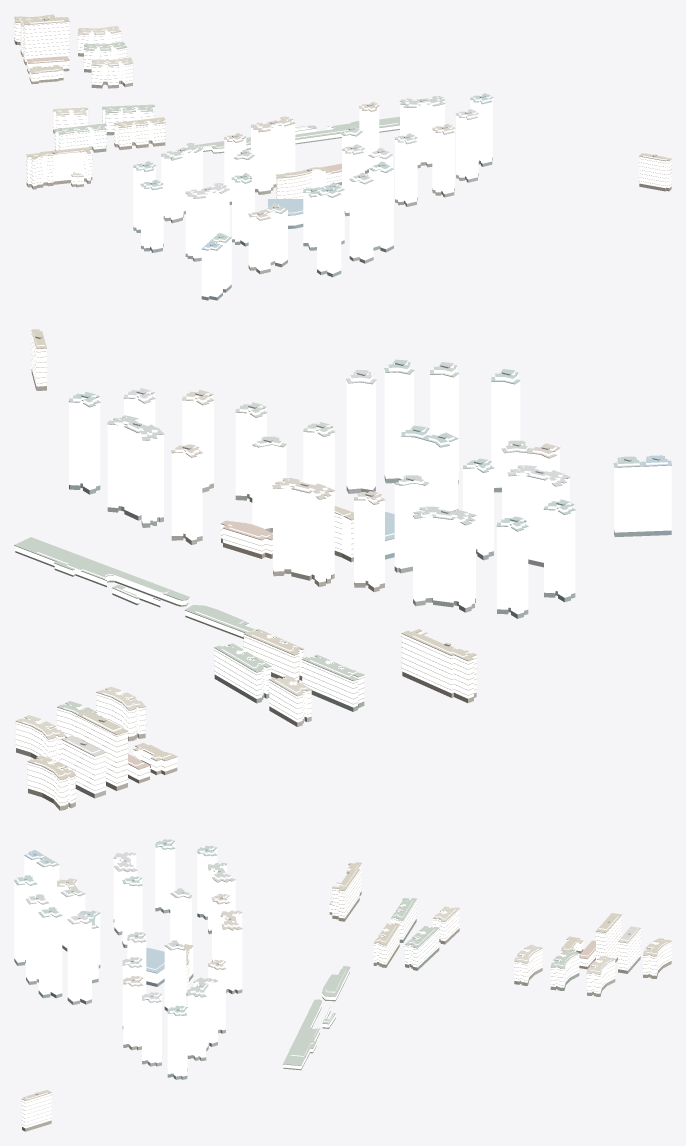
Rendered from buildings--4_2-fine.glb.
The picture shows the model from 3 angles, top to bottom: view 1: azimuth 30°, elevation 25°; view 2: azimuth 150°, elevation 25°; view 3: azimuth 270°, elevation 25°; orthographic projection. The views are drawn at different scales.
Parts seen in each view (by area): view 1: block_-4_2_office, block_-4_2_residential, block_-4_2_roof, block_-4_2_darkglass, block_-4_2_concrete, block_-4_2_steel; view 2: block_-4_2_office, block_-4_2_residential, block_-4_2_roof, block_-4_2_darkglass, block_-4_2_concrete, block_-4_2_steel; view 3: block_-4_2_office, block_-4_2_roof, block_-4_2_residential, block_-4_2_darkglass, block_-4_2_concrete, block_-4_2_steel.
Part boxes in pixels (x1,y1,x2,y2): block_-4_2_office: (133, 94, 492, 297); block_-4_2_residential: (14, 16, 671, 198); block_-4_2_roof: (14, 14, 671, 294); block_-4_2_darkglass: (14, 38, 671, 300); block_-4_2_concrete: (14, 16, 671, 198); block_-4_2_steel: (133, 95, 492, 250); block_-4_2_office: (69, 361, 671, 614); block_-4_2_residential: (15, 332, 476, 806); block_-4_2_roof: (14, 329, 671, 803); block_-4_2_darkglass: (15, 369, 671, 810); block_-4_2_concrete: (14, 335, 476, 803); block_-4_2_steel: (69, 364, 671, 540); block_-4_2_office: (14, 840, 242, 1076); block_-4_2_roof: (14, 839, 671, 1125); block_-4_2_residential: (22, 864, 671, 1128); block_-4_2_darkglass: (14, 891, 671, 1131); block_-4_2_concrete: (22, 863, 671, 1125); block_-4_2_steel: (14, 841, 242, 1015).
Size of the model in its own units: 539 by 89.05 by 628.
